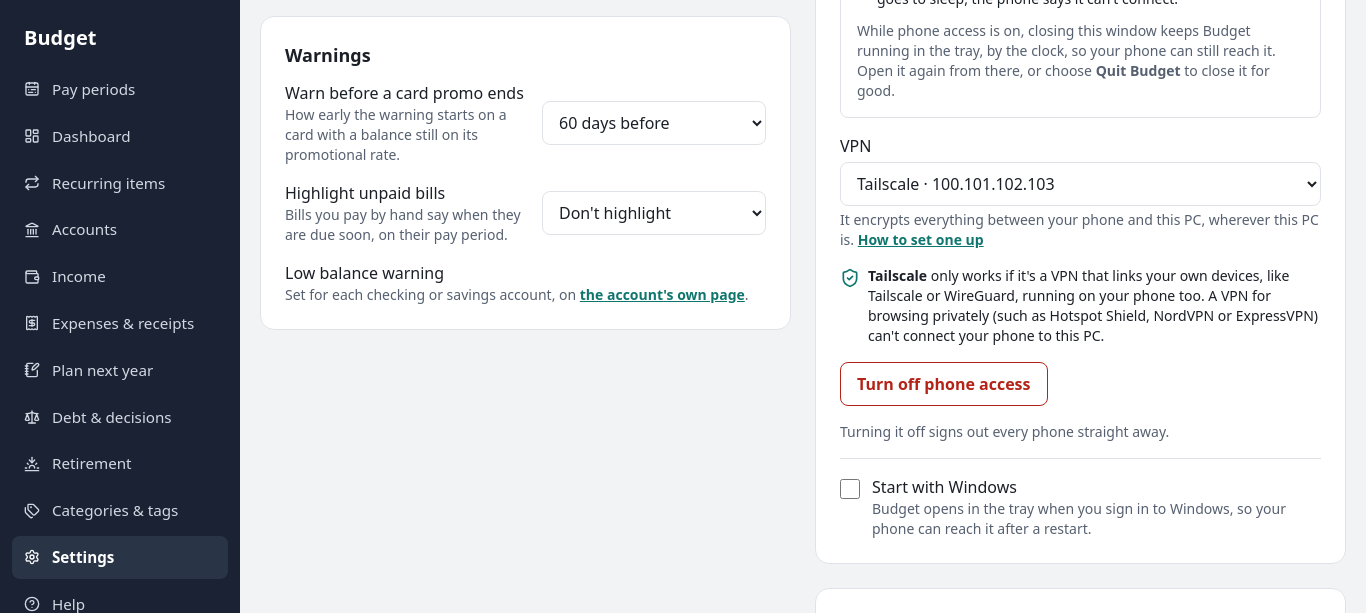
Test case: phone access › turns off, and says the phone is signed out
(page scrolled)
Expected: the text "Turning it off signs out every phone straight away." is shown, x1=840 y1=422 x2=1169 y2=441
What coordinates should you click on to do the following:
click the button "Turn off phone access"
I would click on:
 (944, 384)
Its box is x1=840 y1=362 x2=1048 y2=406.
(page scrolled)
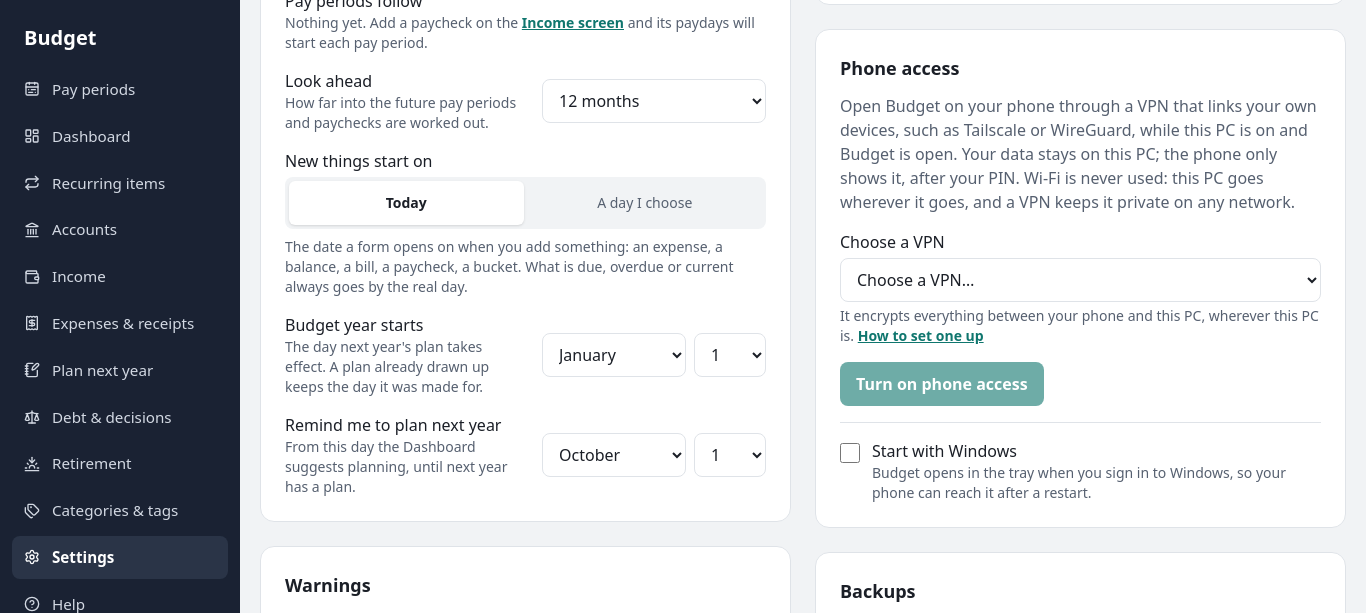
Expected: the button "Turn on phone access" is shown, x1=840 y1=362 x2=1044 y2=406
